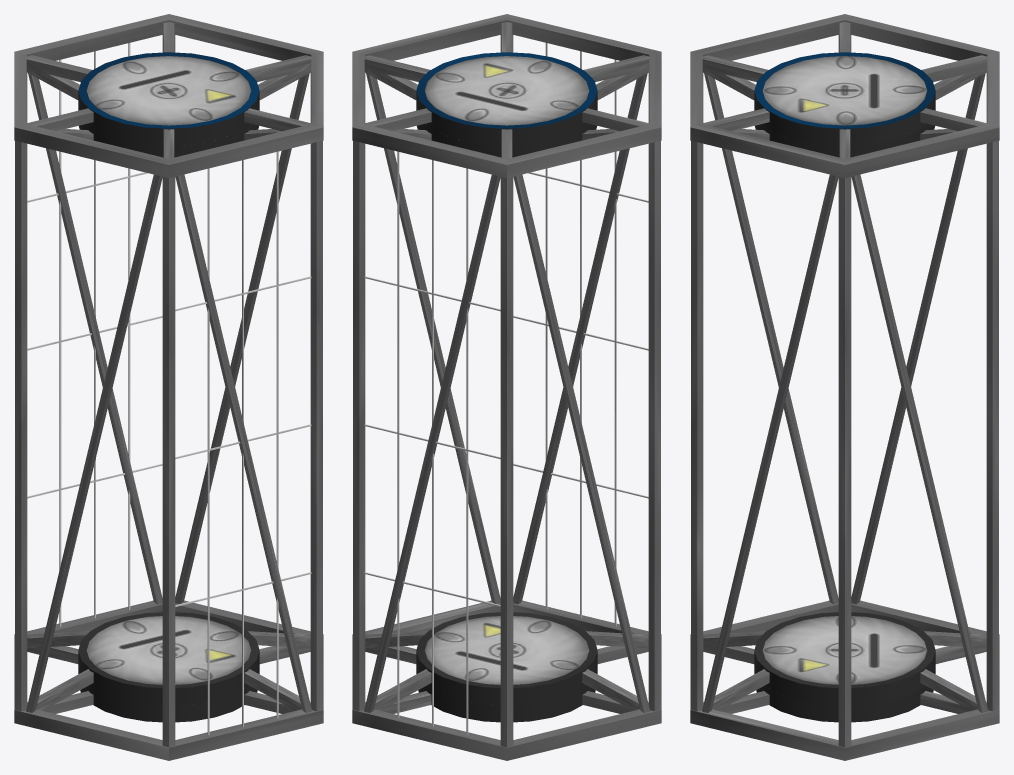
The model's file is HexTruss.FBX.
3 views of the same model, side by side, from view 1: azimuth 30°, elevation 25°; view 2: azimuth 150°, elevation 25°; view 3: azimuth 270°, elevation 25° (orthographic).
Parts seen in each view (by area): view 1: EndCap007, EndBeam002, EndCap012, EndBeam003, Pole001, Pole003, Pole002, CrossBeam012, CrossBeam001, CrossBeam008, CrossBeam005, EndCap013 (+18 smaller); view 2: EndCap007, EndBeam002, EndCap012, EndBeam003, Pole004, Pole003, Pole005, CrossBeam009, CrossBeam008, CrossBeam001, CrossBeam004, EndCap013 (+18 smaller); view 3: EndCap007, EndBeam002, EndCap012, EndBeam003, Pole006, Pole002, Pole005, CrossBeam005, CrossBeam004, CrossBeam012, CrossBeam009, EndCap013 (+12 smaller).
Part boxes in pixels (left/top/right/bottom): EndCap007: left=78, top=52, right=259, bottom=145; EndBeam002: left=14, top=14, right=323, bottom=177; EndCap012: left=78, top=612, right=259, bottom=705; EndBeam003: left=14, top=600, right=323, bottom=760; Pole001: left=162, top=177, right=175, bottom=747; Pole003: left=15, top=140, right=27, bottom=711; Pole002: left=310, top=140, right=322, bottom=711; CrossBeam012: left=26, top=174, right=162, bottom=712; CrossBeam001: left=175, top=174, right=312, bottom=712; CrossBeam008: left=28, top=73, right=162, bottom=604; CrossBeam005: left=175, top=73, right=309, bottom=603; EndCap013: left=78, top=668, right=259, bottom=722; EndCap007: left=416, top=52, right=597, bottom=145; EndBeam002: left=352, top=14, right=661, bottom=177; EndCap012: left=416, top=612, right=597, bottom=705; EndBeam003: left=352, top=600, right=661, bottom=760; Pole004: left=500, top=177, right=513, bottom=747; Pole003: left=648, top=140, right=660, bottom=711; Pole005: left=353, top=140, right=365, bottom=711; CrossBeam009: left=513, top=174, right=650, bottom=712; CrossBeam008: left=364, top=174, right=500, bottom=712; CrossBeam001: left=513, top=73, right=647, bottom=604; CrossBeam004: left=366, top=73, right=500, bottom=603; EndCap013: left=416, top=668, right=597, bottom=722; EndCap007: left=754, top=52, right=935, bottom=145; EndBeam002: left=690, top=14, right=999, bottom=177; EndCap012: left=754, top=612, right=935, bottom=705; EndBeam003: left=690, top=600, right=999, bottom=760; Pole006: left=838, top=177, right=851, bottom=747; Pole002: left=691, top=140, right=703, bottom=711; Pole005: left=986, top=140, right=998, bottom=711; CrossBeam005: left=851, top=174, right=988, bottom=712; CrossBeam004: left=702, top=174, right=838, bottom=712; CrossBeam012: left=704, top=73, right=838, bottom=604; CrossBeam009: left=851, top=73, right=985, bottom=604; EndCap013: left=754, top=668, right=935, bottom=722.
Size of what is drawn, in the model's own units: 2.46 by 2.13 by 4.53.
Materials: 1 (1 with a texture image).
